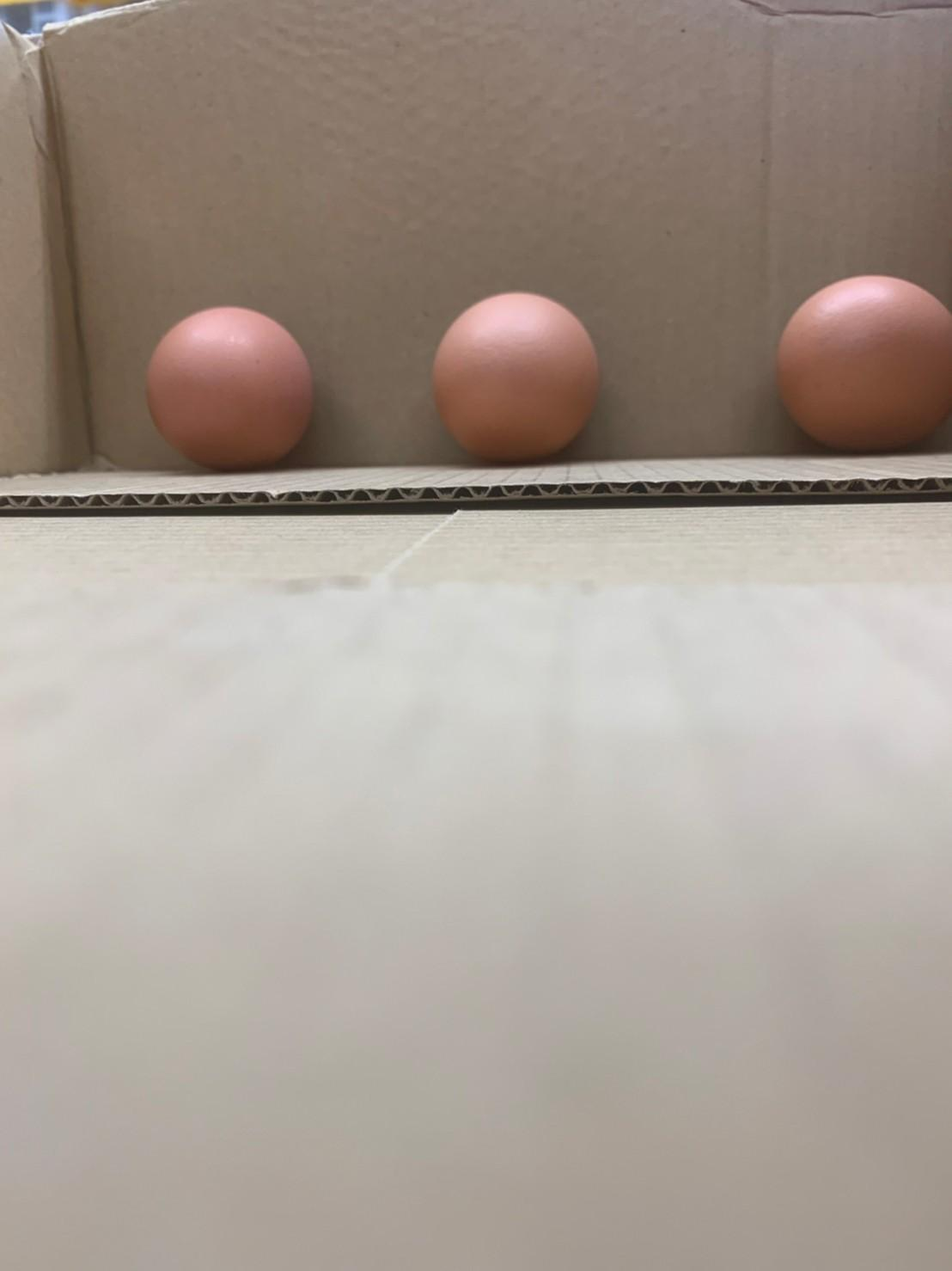egg: (766, 267, 952, 465), (424, 288, 611, 465), (135, 301, 312, 471)
